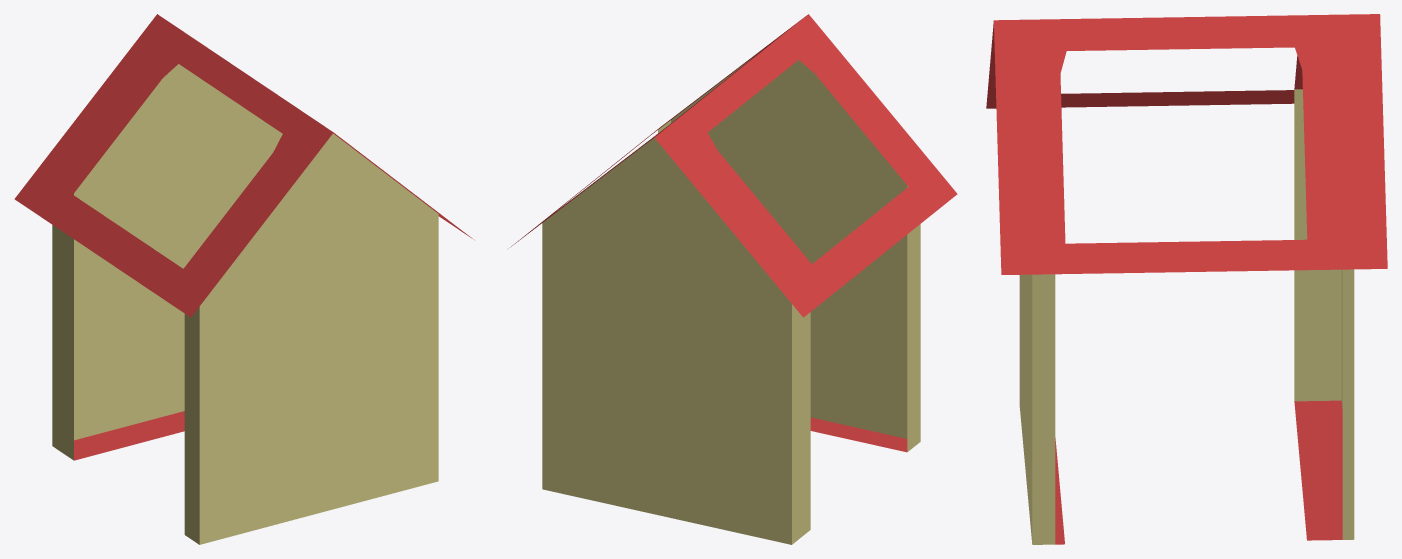
The picture shows the model from 3 angles, left to right: view 1: azimuth 30°, elevation 25°; view 2: azimuth 150°, elevation 25°; view 3: azimuth 270°, elevation 25°; orthographic projection. The views are drawn at different scales.
Parts seen in each view (by area): view 1: group_5, group_3, group_6, group_4; view 2: group_5, group_3, group_6, group_4; view 3: group_3, group_5, group_6, group_4.
Part boxes in pixels (x1,y1,x2,y2): group_5: (52, 64, 438, 544); group_3: (15, 14, 473, 317); group_6: (74, 411, 184, 460); group_4: (15, 35, 453, 308); group_5: (542, 54, 920, 544); group_3: (508, 14, 957, 317); group_6: (810, 417, 907, 452); group_4: (544, 91, 950, 314); group_3: (986, 14, 1387, 274); group_5: (1019, 89, 1354, 544); group_6: (1055, 400, 1342, 544); group_4: (992, 27, 1387, 272).
Size of the model in its own units: 9.52 by 9.36 by 11.72.
